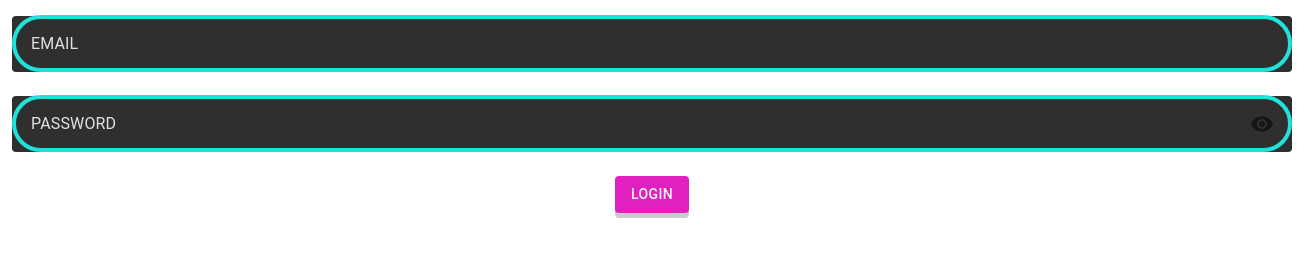
auth login unit tests › unknown user is refused
In the field labelled "EMAIL": (652, 44) x1=12 y1=16 x2=1292 y2=72, type "unknown@42.fr"
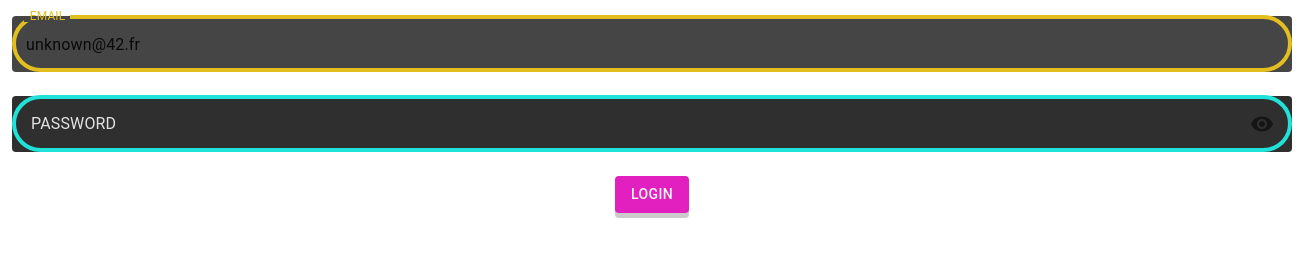
In the password field labelled "PASSWORD": (623, 124) x1=12 y1=96 x2=1234 y2=152, type "whocares"
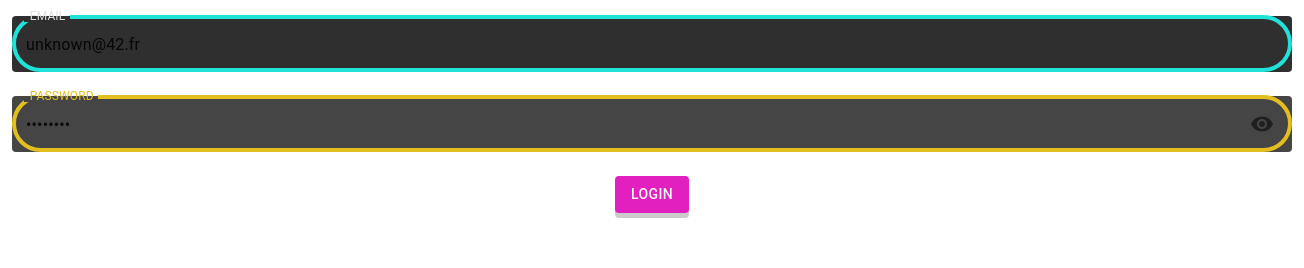
Click the button "LOGIN": (652, 194) x1=615 y1=176 x2=689 y2=212
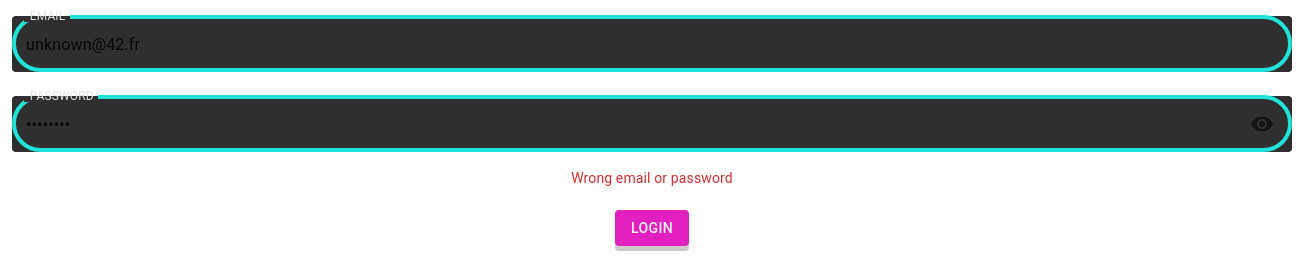
Expected: the button "LOGIN" is enabled, x1=615 y1=210 x2=689 y2=246
Now the text "Wrong email or password" is shown, box x1=571 y1=168 x2=733 y2=189
